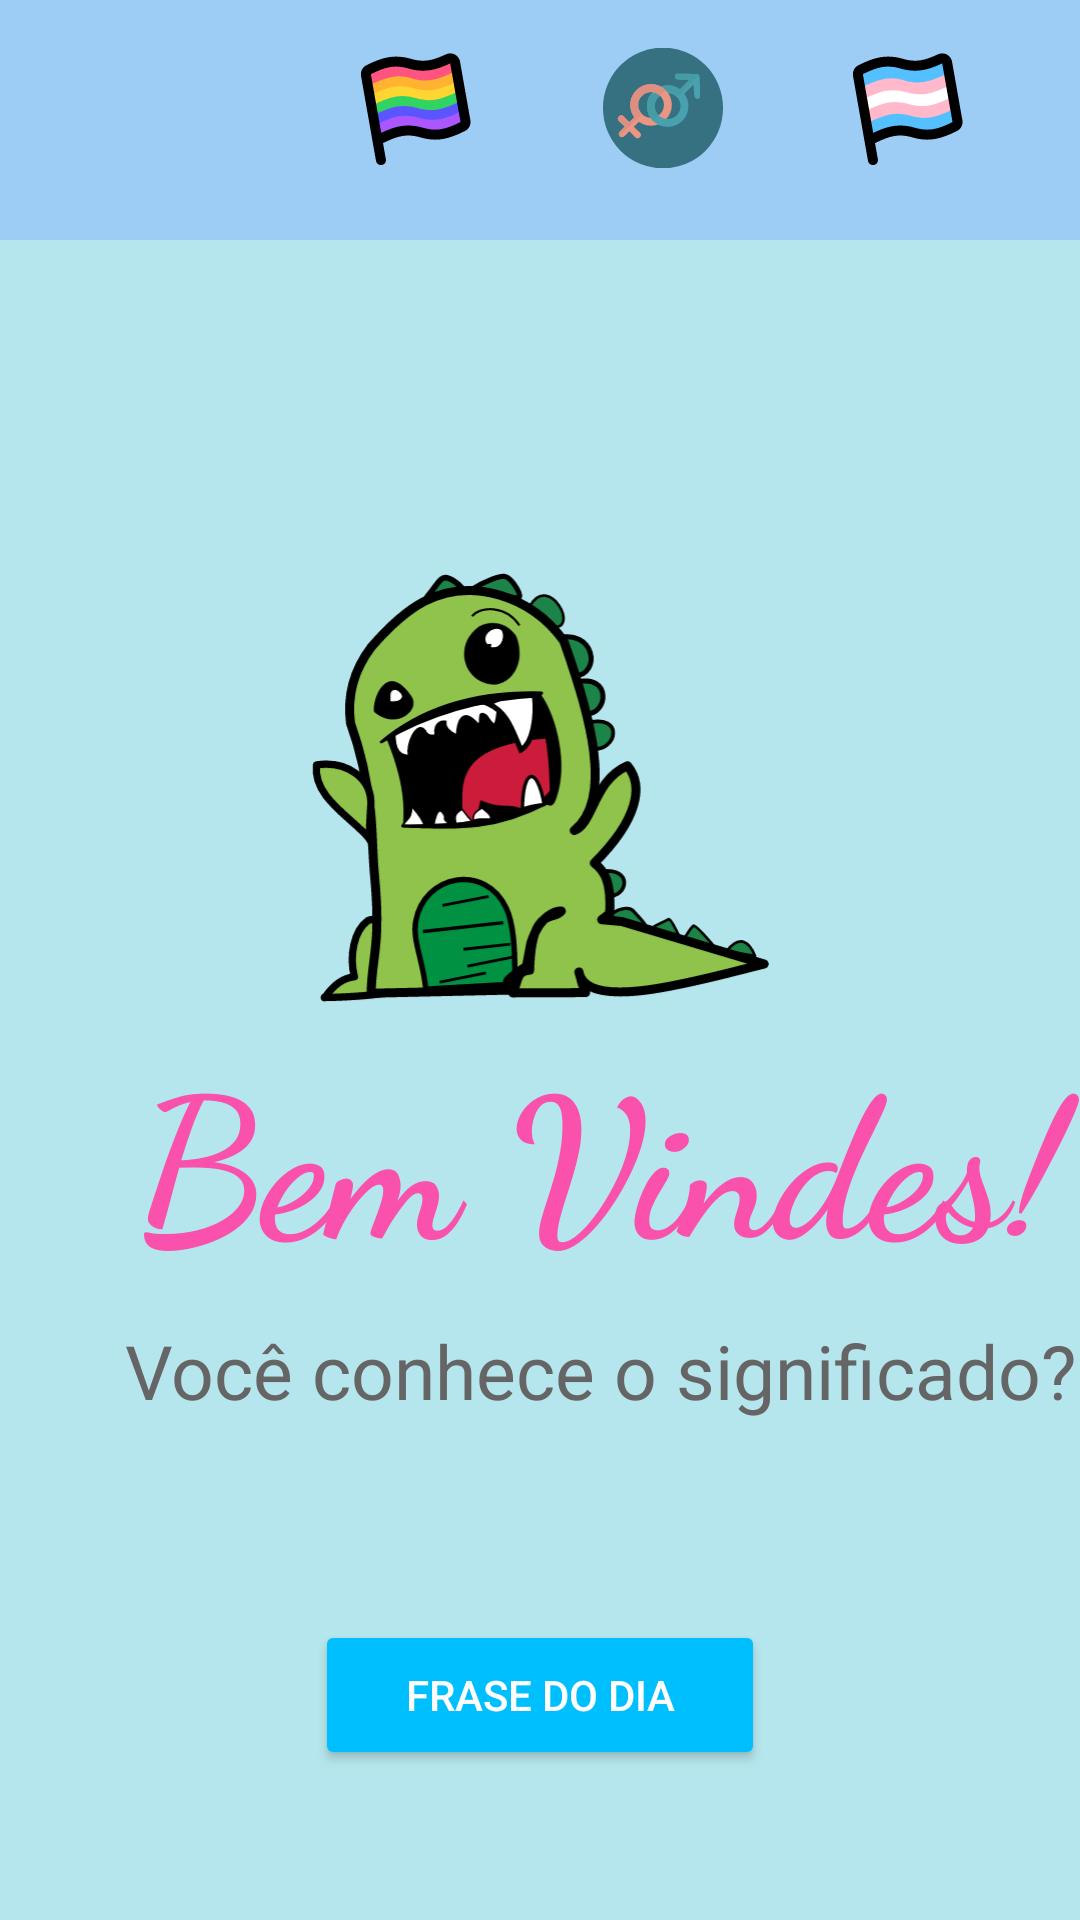

Named icons in this screenshot (1080×1920) and their centers, (x,y):
flagtrans: (907,109)
genders: (663,108)
lgbtflag: (415,109)
